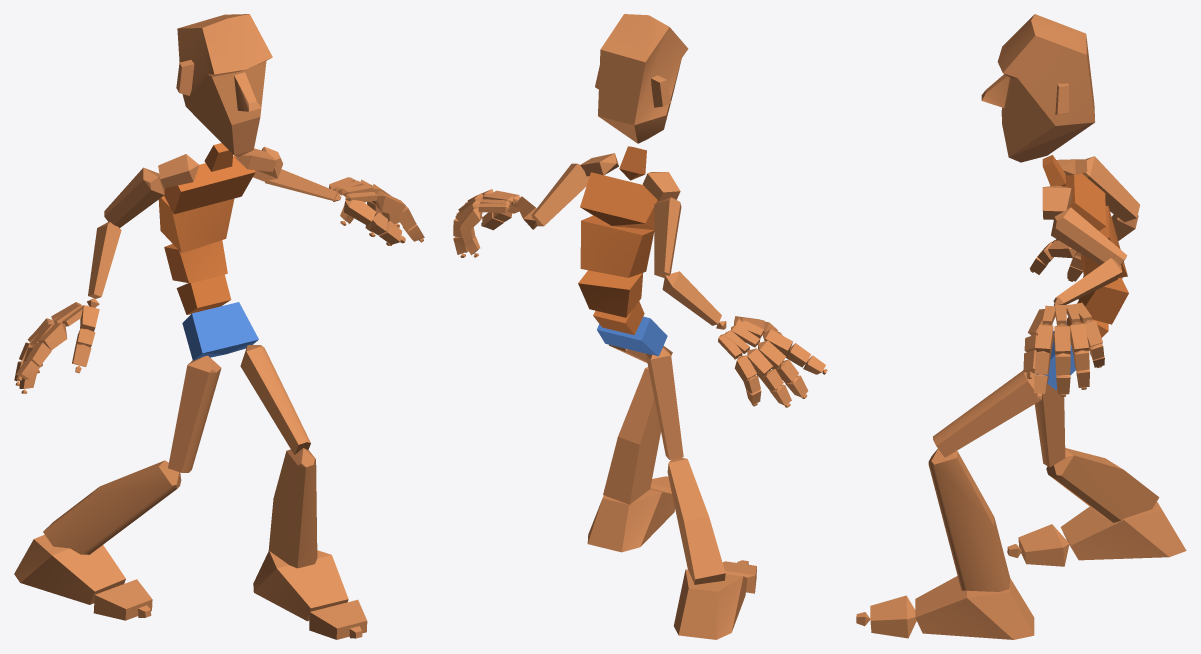
3 views of the same model, side by side, from view 1: azimuth 30°, elevation 25°; view 2: azimuth 150°, elevation 25°; view 3: azimuth 270°, elevation 25° (orthographic). The views are drawn at different scales.
Parts seen in each view (by area): view 1: BOPED_Head, BOPED_R_leg, BOPED_L_leg, BOPED_R_foot, BOPED_R_foot01, BOPED_R_legup, Bone01, BOPED_L_legup, Bone04, Bone05, Bone03, BOPED_R_arm_upper (+8 smaller); view 2: BOPED_Head, BOPED_L_leg, BOPED_R_leg, BOPED_R_foot, BOPED_R_foot01, Bone04, Bone05, BOPED_R_legup, Bone03, BOPED_R_arm_upper, BOPED_L_arm_upper, Bone01 (+6 smaller); view 3: BOPED_Head, BOPED_L_leg, BOPED_R_foot01, BOPED_R_foot, BOPED_R_leg, BOPED_L_legup, BOPED_L_arm_upper, BOPED_R_legup, BOPED_R_foot_toe01, BOPED_R_arm_upper, BOPED_R_foot_toe04, Bone05 (+7 smaller).
Boxes of the visible parts, x1,y1,x2,y2 form: BOPED_Head: (176,14,272,156); BOPED_R_leg: (43,460,181,554); BOPED_L_leg: (268,448,317,568); BOPED_R_foot: (14,534,125,604); BOPED_R_foot01: (253,550,348,621); BOPED_R_legup: (168,355,221,472); Bone01: (182,302,258,360); BOPED_L_legup: (240,345,310,454); Bone04: (158,196,234,252); Bone05: (164,155,255,214); Bone03: (164,240,227,282); BOPED_R_arm_upper: (104,167,164,227); BOPED_Head: (595,14,688,143); BOPED_L_leg: (603,367,660,504); BOPED_R_leg: (667,457,725,584); BOPED_R_foot: (674,569,747,639); BOPED_R_foot01: (587,488,674,552); Bone04: (580,215,654,277); Bone05: (580,172,660,229); BOPED_R_legup: (645,347,683,459); Bone03: (578,270,643,317); BOPED_R_arm_upper: (654,197,681,277); BOPED_L_arm_upper: (531,163,589,226); Bone01: (597,316,667,356); BOPED_Head: (981,14,1095,162); BOPED_L_leg: (928,449,1010,591); BOPED_R_foot01: (915,576,1034,639); BOPED_R_foot: (1060,501,1186,560); BOPED_R_leg: (1046,448,1159,522); BOPED_L_legup: (933,370,1042,457); BOPED_L_arm_upper: (1051,207,1127,265); BOPED_R_legup: (1034,384,1065,467); BOPED_R_foot_toe01: (1018,524,1069,566); BOPED_R_arm_upper: (1082,156,1139,222); BOPED_R_foot_toe04: (870,595,916,638); Bone05: (1064,173,1106,230).
Bounding box in the file's own units: 130 × 178 × 91.52.
